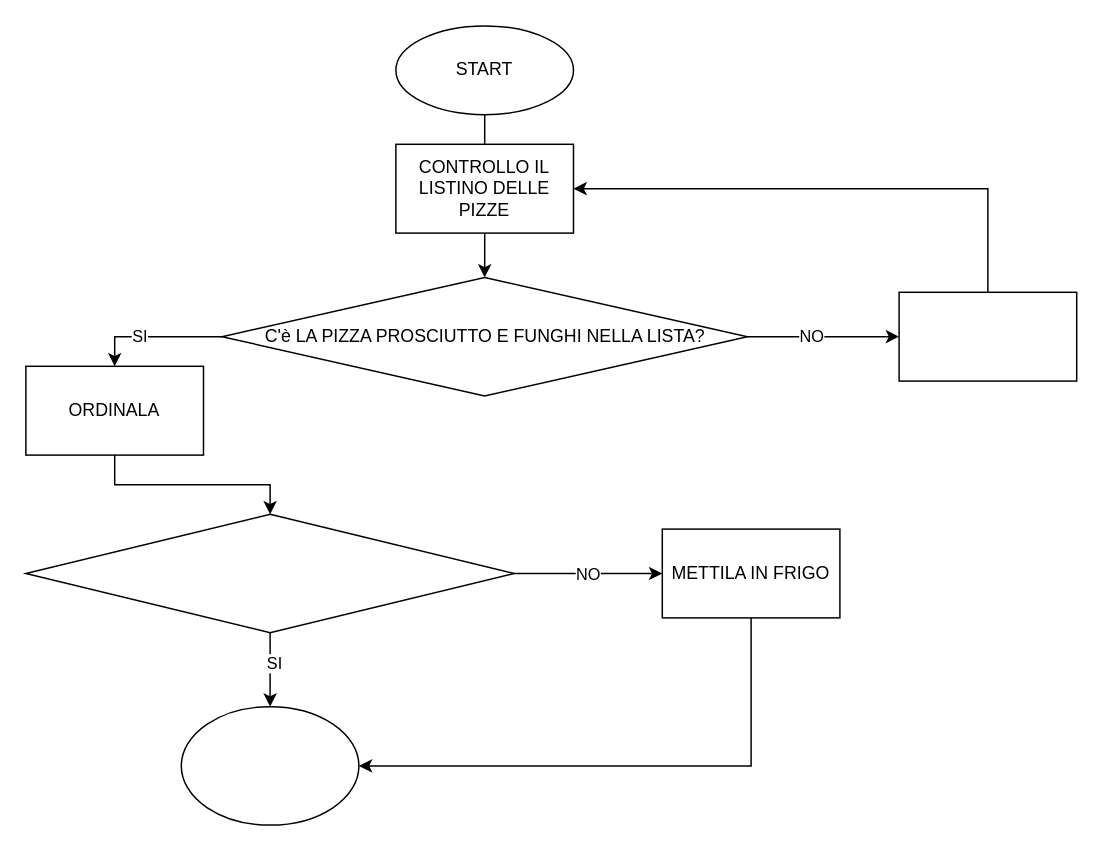
Some shapes in this 1103 by 851 pixel diagram are drawn without their labels. Each missing label, with the centre of its shape:
"CHIAMO UN'ALTRA PIZZERIA" goes at (x=987, y=336).
"FINE" goes at (x=269, y=765).
"LA MANGIO TUTTA?" goes at (x=269, y=573).
